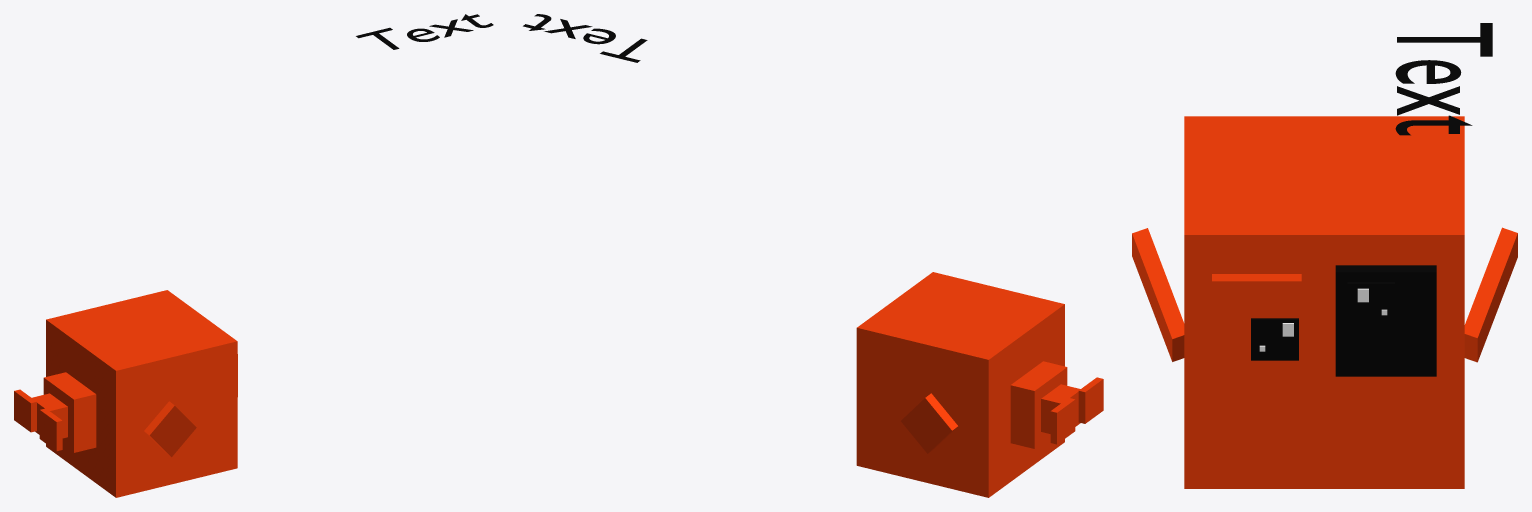
The model's file is fish.obj.
3 views of the same model, side by side, from view 1: azimuth 30°, elevation 25°; view 2: azimuth 150°, elevation 25°; view 3: azimuth 270°, elevation 25° (orthographic). The views are drawn at different scales.
Parts seen in each view (by area): view 1: body, Cube, Cube.009, Text, Cube.013, Cube.014, Cube.010; view 2: body, Cube, Cube.000, Text, Cube.014, Cube.013, Cube.010; view 3: body, Cube.001, Cube.002, Text, Cube.000, Cube.009, Cube.003, Cube.006.
Part boxes in pixels (x1,y1,x2,y2): body: [46, 290, 237, 497]; Cube: [43, 372, 96, 452]; Cube.009: [144, 401, 196, 457]; Text: [356, 14, 493, 49]; Cube.013: [39, 408, 62, 451]; Cube.014: [14, 389, 36, 432]; Cube.010: [32, 393, 67, 438]; body: [856, 272, 1064, 497]; Cube: [1010, 361, 1067, 448]; Cube.000: [901, 393, 957, 453]; Text: [523, 14, 647, 62]; Cube.014: [1050, 398, 1075, 444]; Cube.013: [1078, 377, 1103, 423]; Cube.010: [1041, 384, 1080, 433]; body: [1184, 116, 1464, 488]; Cube.001: [1335, 265, 1436, 376]; Cube.002: [1212, 274, 1301, 367]; Text: [1395, 23, 1492, 135]; Cube.000: [1464, 227, 1517, 362]; Cube.009: [1132, 228, 1184, 361]; Cube.003: [1347, 282, 1394, 324]; Cube.006: [1251, 318, 1298, 360].
Size of the model in its own units: 7.89 by 5.17 by 2.75.
